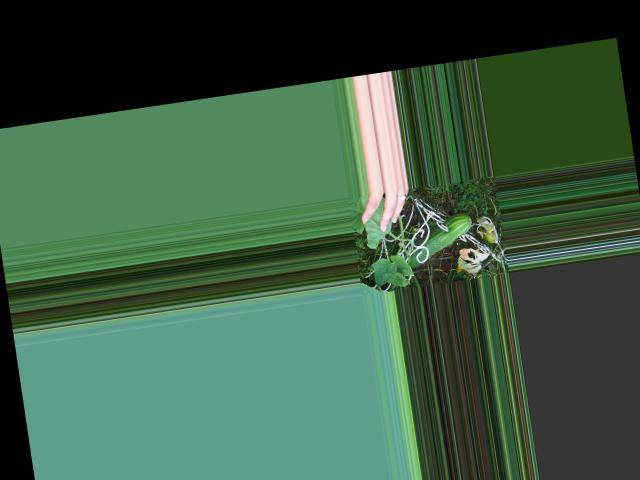cucumber: (401, 211, 476, 268)
